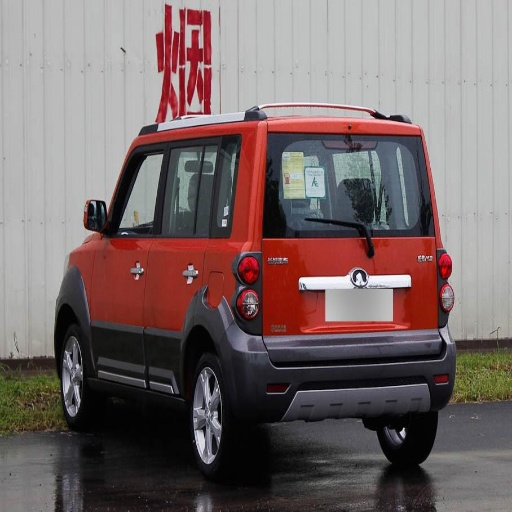back_bumper: (228, 328, 450, 416)
back_glass: (283, 165, 423, 232)
back_left_door: (146, 139, 233, 393)
trunk: (220, 226, 434, 358)
